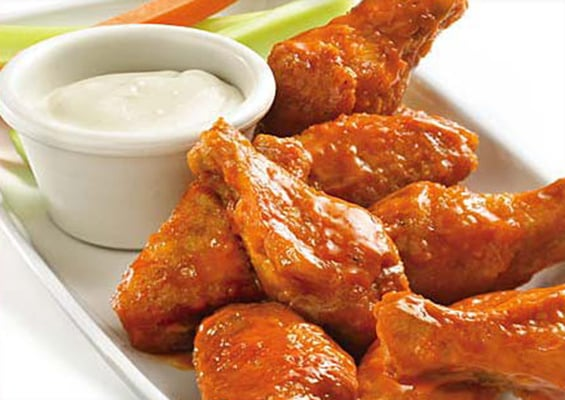pizza: (0, 23, 277, 250)
sushi: (0, 23, 276, 249)
